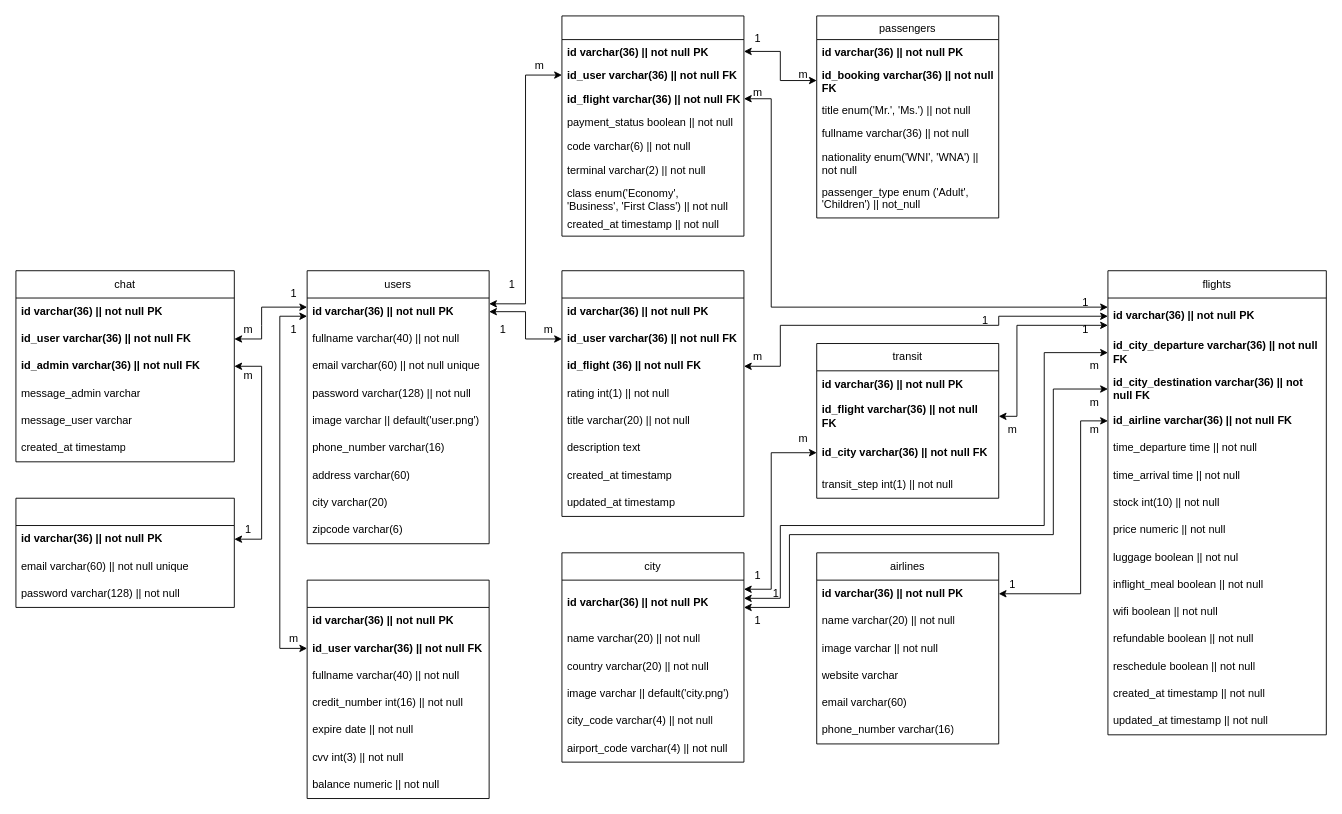
The diagram is 1342 pixels wide and 814 high, and some of its shapes have lost their labels. The box of each missing label's shape, as (x1, y1, x2, y2) in pixels:
admin: (15, 497, 234, 607)
booking: (561, 15, 744, 236)
credit_card: (306, 579, 489, 799)
review: (561, 270, 744, 516)
